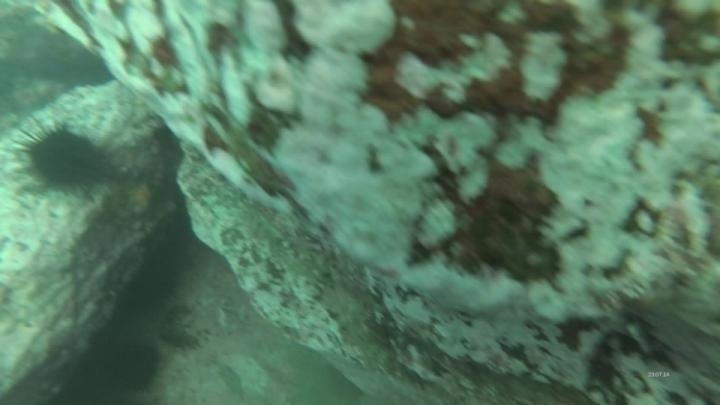echinus: (15, 119, 117, 196), (97, 334, 165, 397)
holothurian: (155, 304, 205, 351)
